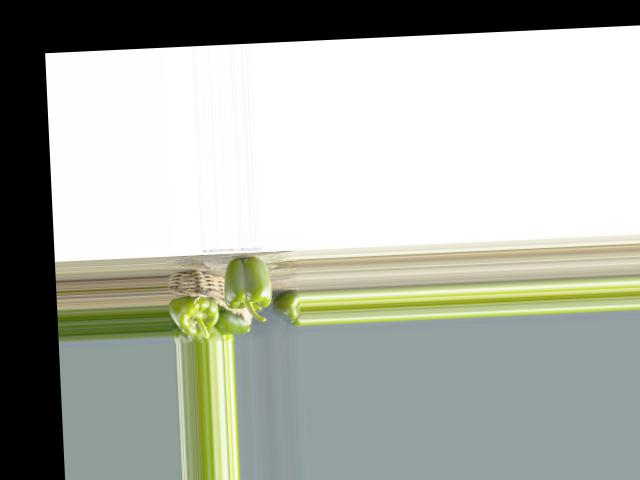bell_pepper: (281, 295, 302, 325)
